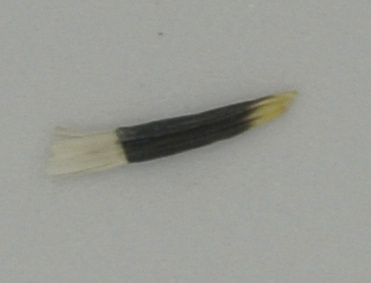เมล็ดดีติดกัน: (45, 89, 297, 175)
